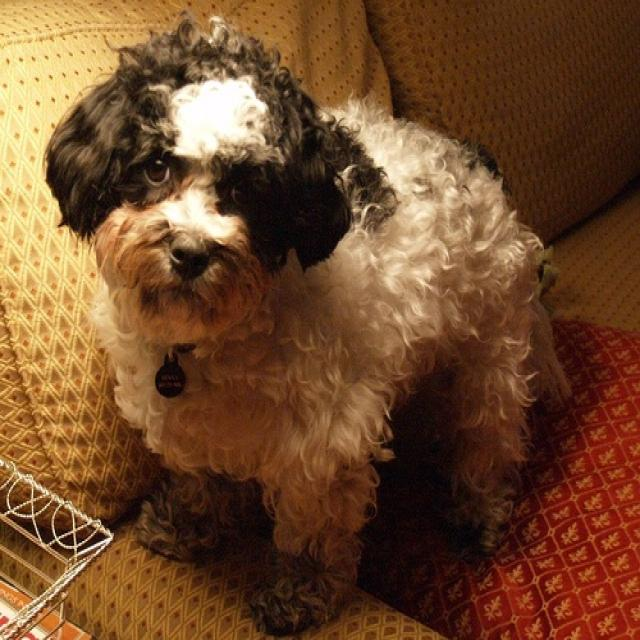dog: (45, 19, 571, 632)
